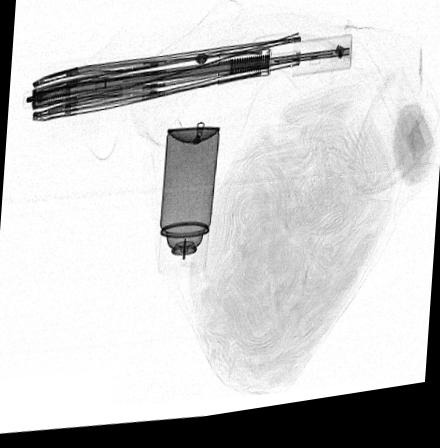Sprayer: (158, 133, 219, 282)
